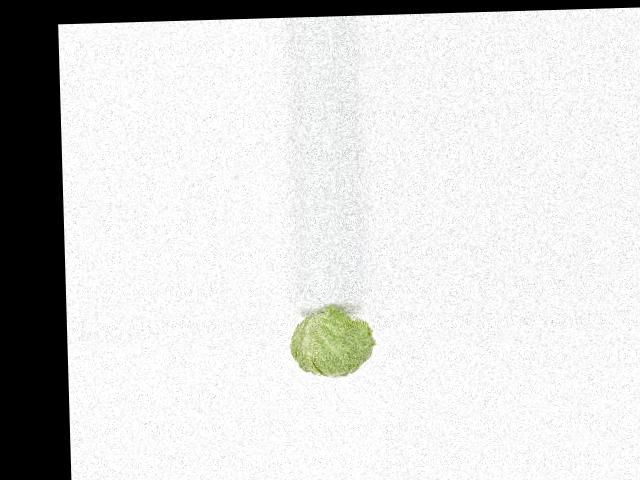lettuce: (284, 313, 378, 380)
